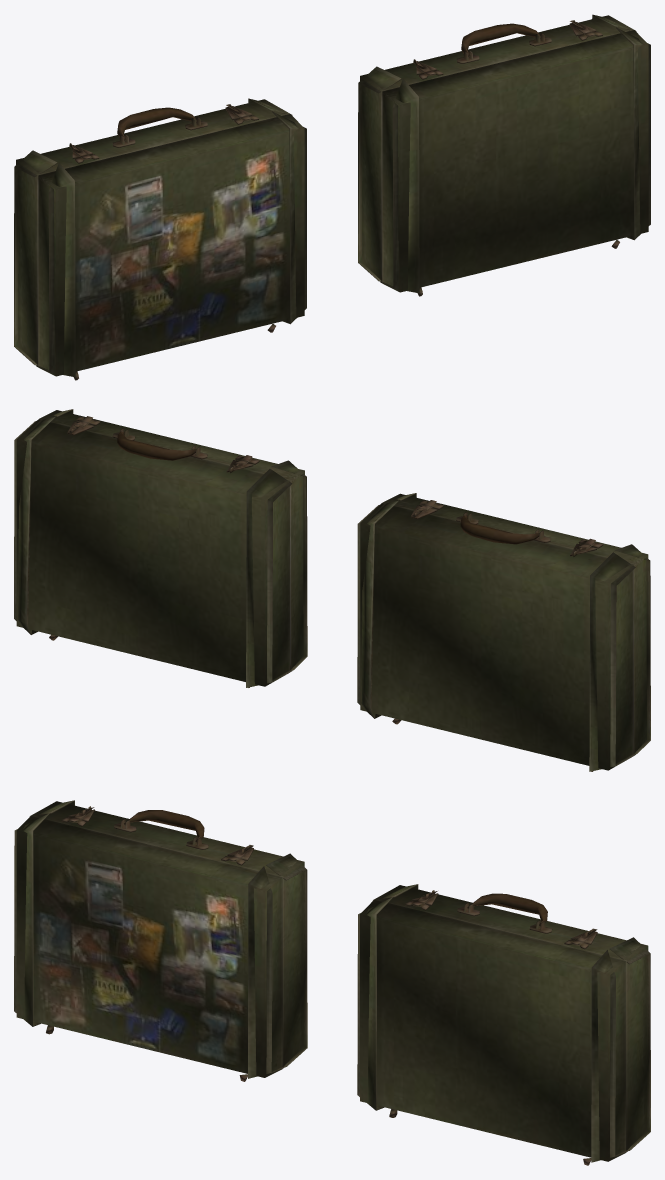
File: vintage_suitcase.glb
3 renders of one model, top to bottom at view 1: azimuth 30°, elevation 25°; view 2: azimuth 150°, elevation 25°; view 3: azimuth 330°, elevation 25°, orthographic.
Visible parts, largest first — view 1: vintage_suitcase_01_top, vintage_suitcase_02_top, vintage_suitcase_01_bottom, vintage_suitcase_02_bottom, vintage_suitcase_02_handle, vintage_suitcase_01_handle; view 2: vintage_suitcase_02_bottom, vintage_suitcase_01_bottom, vintage_suitcase_02_top, vintage_suitcase_01_top, vintage_suitcase_01_handle, vintage_suitcase_02_handle; view 3: vintage_suitcase_02_top, vintage_suitcase_01_top, vintage_suitcase_02_bottom, vintage_suitcase_01_bottom, vintage_suitcase_01_handle, vintage_suitcase_02_handle.
Boxes of the visible parts, <box> form: vintage_suitcase_01_top: <box>380,27,650,296</box>; vintage_suitcase_02_top: <box>36,111,306,380</box>; vintage_suitcase_01_bottom: <box>358,14,636,281</box>; vintage_suitcase_02_bottom: <box>14,98,292,365</box>; vintage_suitcase_02_handle: <box>117,107,197,140</box>; vintage_suitcase_01_handle: <box>461,23,541,56</box>; vintage_suitcase_02_bottom: <box>357,500,635,771</box>; vintage_suitcase_01_bottom: <box>14,417,292,687</box>; vintage_suitcase_02_top: <box>382,493,650,754</box>; vintage_suitcase_01_top: <box>39,409,307,670</box>; vintage_suitcase_01_handle: <box>117,431,195,460</box>; vintage_suitcase_02_handle: <box>460,515,539,544</box>; vintage_suitcase_02_top: <box>14,813,284,1081</box>; vintage_suitcase_01_top: <box>357,897,627,1165</box>; vintage_suitcase_02_bottom: <box>29,800,307,1068</box>; vintage_suitcase_01_bottom: <box>373,884,650,1152</box>; vintage_suitcase_01_handle: <box>467,893,547,926</box>; vintage_suitcase_02_handle: <box>124,810,204,842</box>.
Bounding box in the file's own units: 1.6 × 0.5664 × 0.2164.
2 materials, 2 textured.
